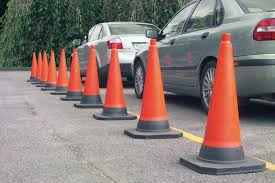car: (135, 1, 275, 112), (68, 23, 163, 86)
cone: (197, 34, 249, 167), (137, 39, 168, 134), (101, 46, 128, 117), (79, 49, 101, 107), (67, 47, 82, 99), (54, 48, 69, 93), (47, 49, 58, 89), (41, 50, 48, 88), (29, 52, 36, 82), (36, 51, 41, 83)
